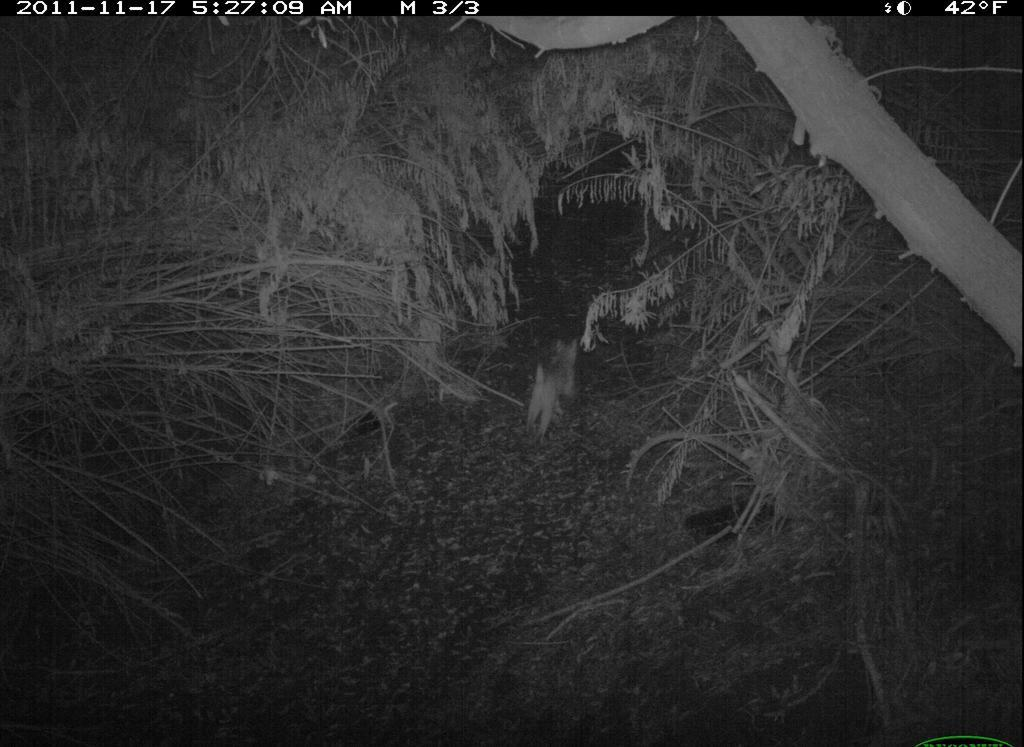bobcat: (510, 333, 596, 461)
